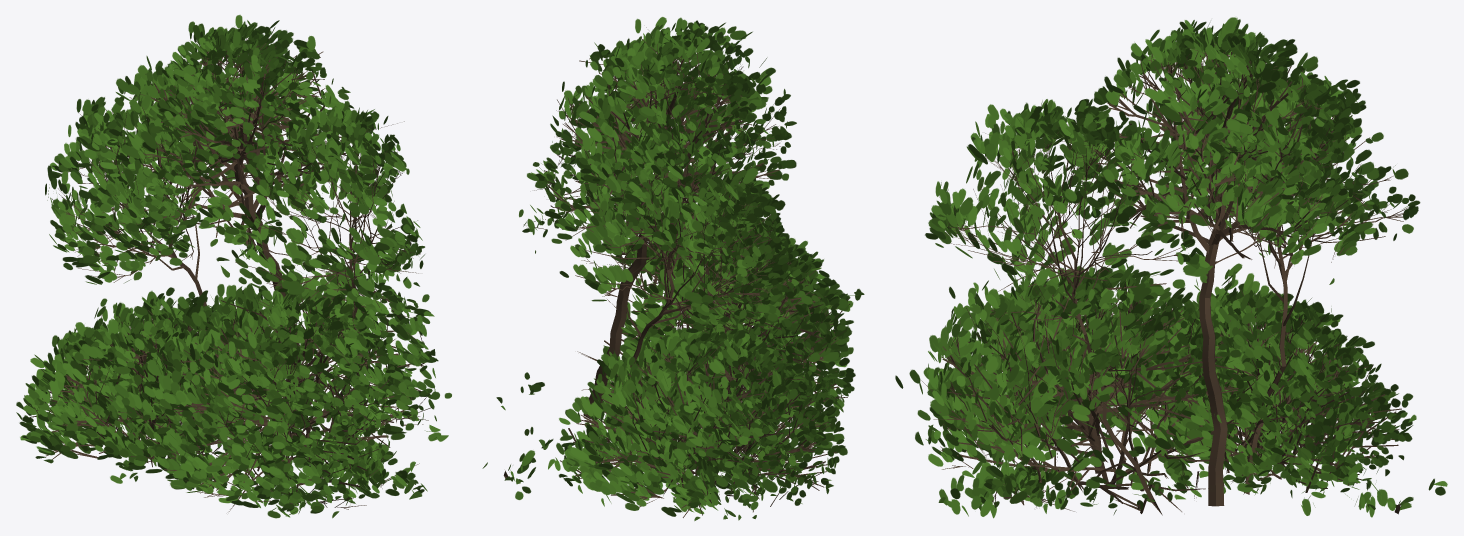
The picture shows the model from 3 angles, left to right: view 1: azimuth 30°, elevation 25°; view 2: azimuth 150°, elevation 25°; view 3: azimuth 270°, elevation 25°; orthographic projection. The views are drawn at different scales.
Parts seen in each view (by area): view 1: oak 01.001_trunk_Mat.001_0.198; view 2: oak 01.001_trunk_Mat.001_0.198; view 3: oak 01.001_trunk_Mat.001_0.198.
Part boxes in pixels (x1,y1,x2,y2): oak 01.001_trunk_Mat.001_0.198: [16, 15, 451, 518]; oak 01.001_trunk_Mat.001_0.198: [482, 17, 864, 520]; oak 01.001_trunk_Mat.001_0.198: [895, 17, 1447, 518].
Size of the model in its own units: 2.28 by 3.21 by 3.35.
Materials: 2 (1 with a texture image).
